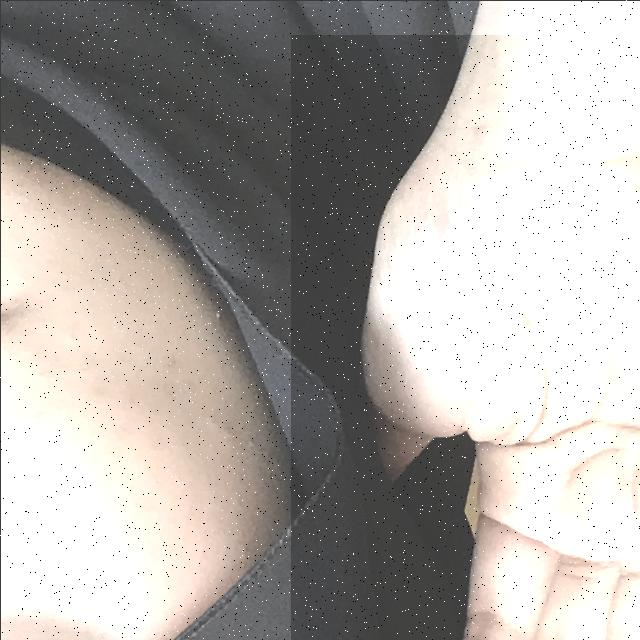mendengar: (290, 34, 640, 640)
